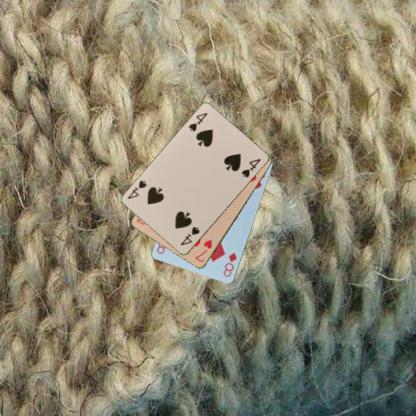4s: (178, 224, 201, 247), (186, 110, 208, 133)
7h: (192, 237, 214, 264)
8d: (221, 250, 238, 279)
